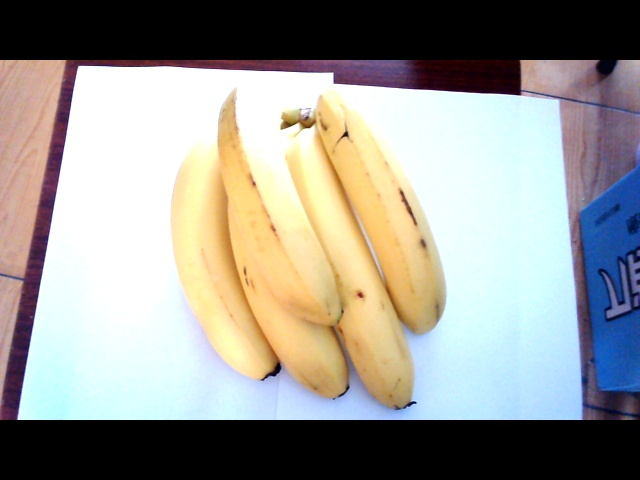banana: (175, 94, 443, 410)
